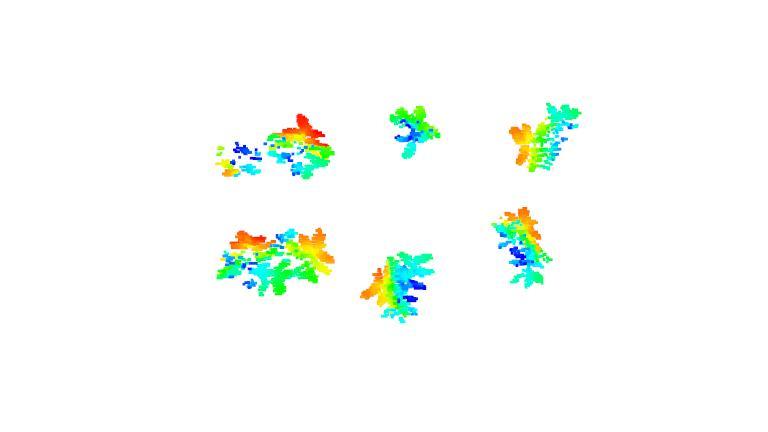chickpea: (358, 249, 440, 322), (508, 100, 586, 175), (488, 204, 554, 289), (263, 112, 334, 183), (270, 226, 338, 295), (216, 228, 274, 298), (382, 102, 442, 158), (212, 138, 266, 181)
